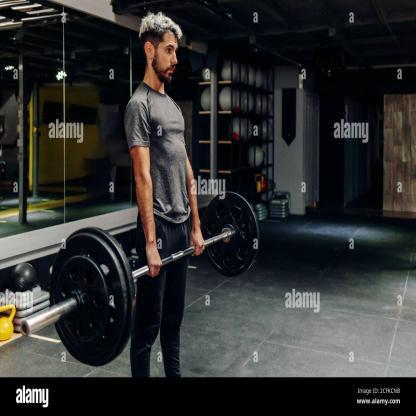Barbell: (19, 313, 36, 343)
